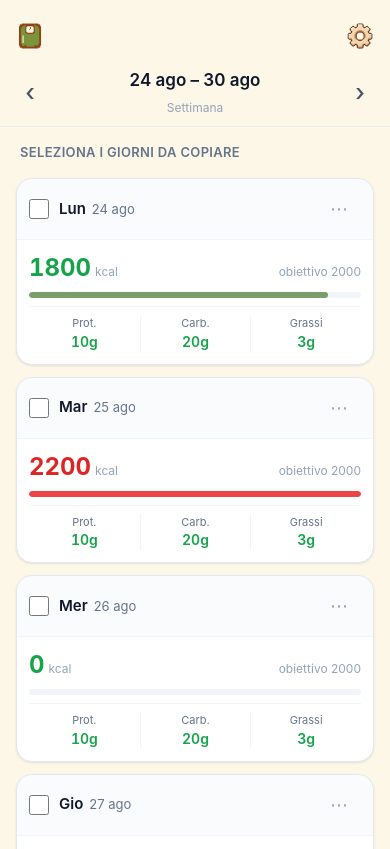
Test: WeekPage › enables the action bar with the count when 2 day checkboxes are selected
Click the checkbox named "Seleziona 2026-08-24": (39, 209) [29, 199, 49, 219]
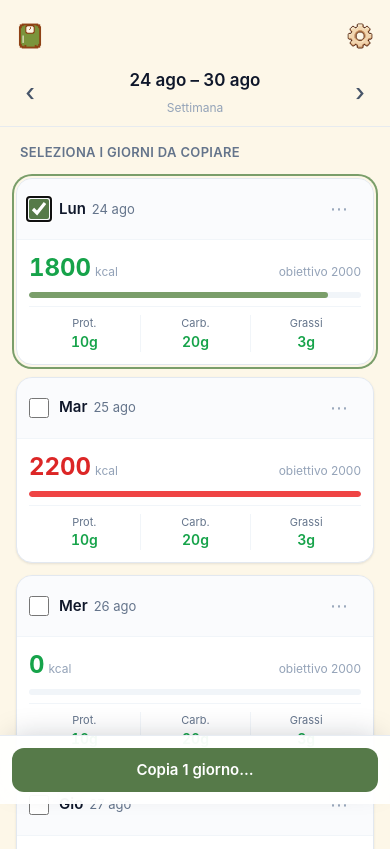
Click the checkbox named "Seleziona 2026-08-25": (39, 408) [29, 398, 49, 418]
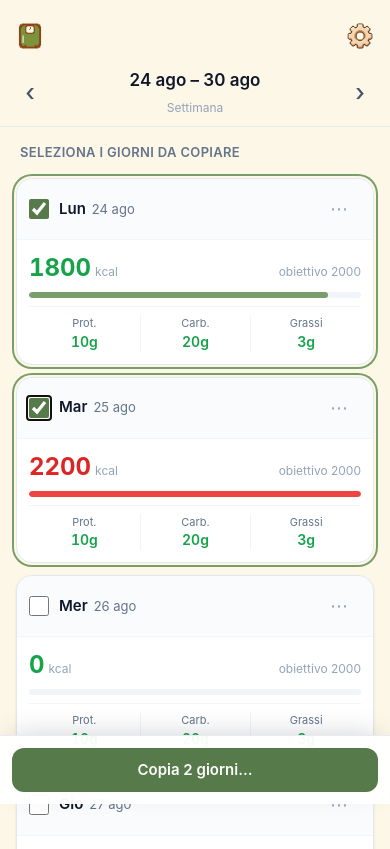
Expected: the button "Copia 2 giorni…" is shown, [12, 748, 378, 792]
